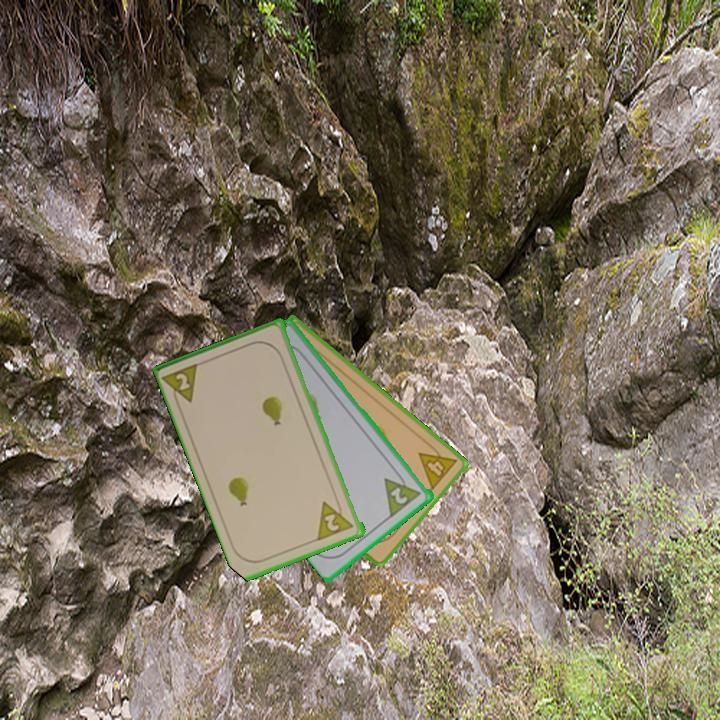2p: (314, 494, 357, 543), (387, 483, 411, 507), (172, 369, 193, 394)
4p: (415, 439, 460, 493)
